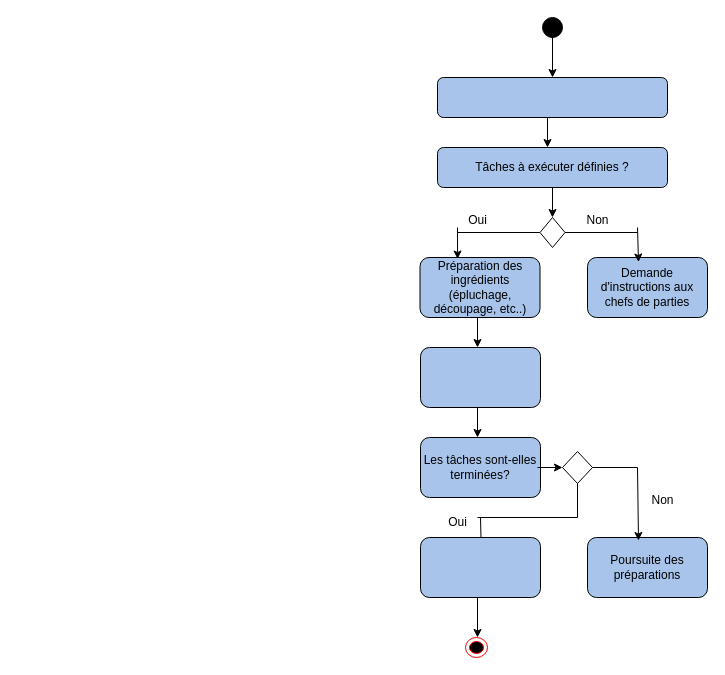
Image size: 725x675. Some labels were removed from this diagram. The shapes that lost their labels are listed below. From the top down, each one's box as (x1, y1, x2, y2) in pixels, then its label:
(436, 76, 668, 118): Réception des ordres des chefs de partie
(420, 346, 540, 408): Aide aux chefs de parties
(420, 536, 540, 598): Transmission des plats
